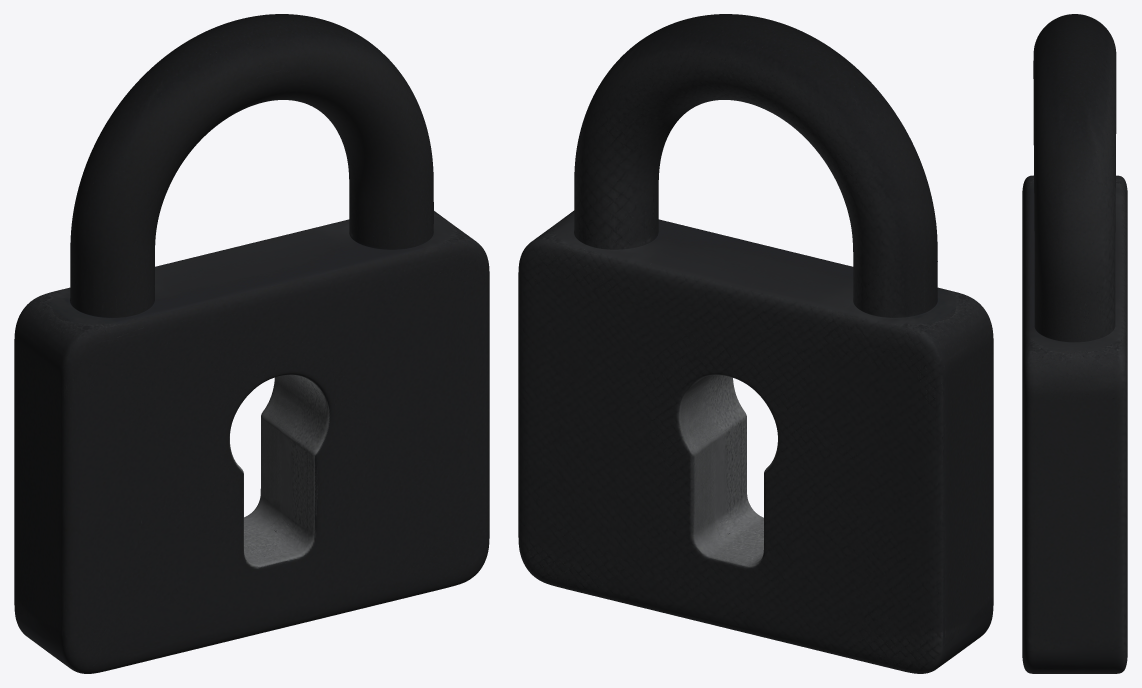
The model's file is locked.glb.
3 renders of one model, left to right at view 1: azimuth 30°, elevation 25°; view 2: azimuth 150°, elevation 25°; view 3: azimuth 270°, elevation 25°, orthographic. The views are drawn at different scales.
Bounding box in the file's own units: 1.44 × 1.9 × 0.3274.
1 material, 1 textured.
